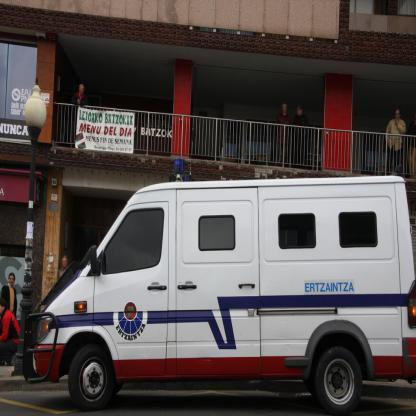ambulance: (22, 159, 416, 414)
